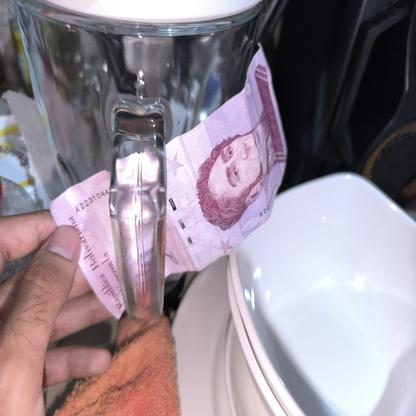one_hundred-front-vef: (50, 40, 288, 320)
